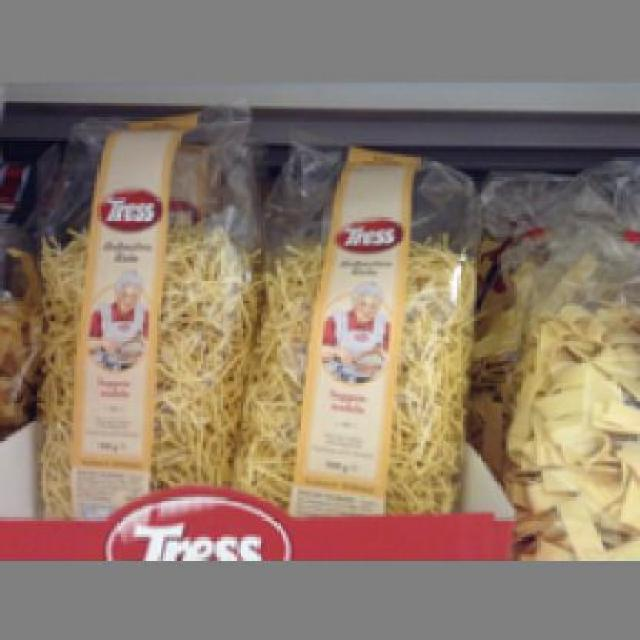Pasta: (28, 106, 261, 514), (234, 128, 480, 512), (502, 263, 638, 560)
